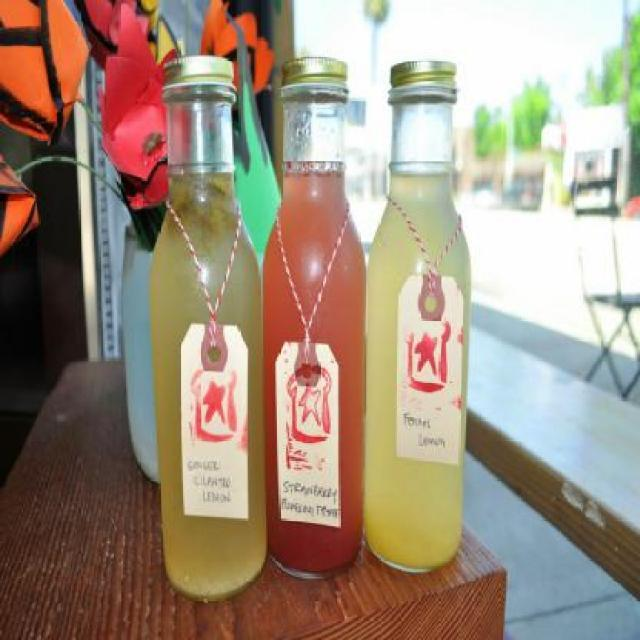Juice: (268, 53, 364, 592), (148, 158, 260, 610), (366, 160, 471, 580)
